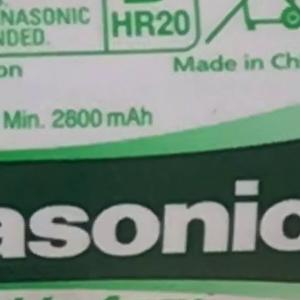HR20: (105, 18, 198, 45)
